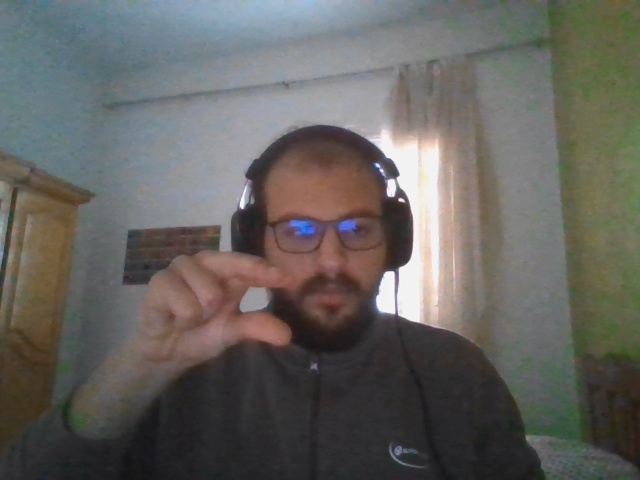No: (147, 248, 293, 361)
